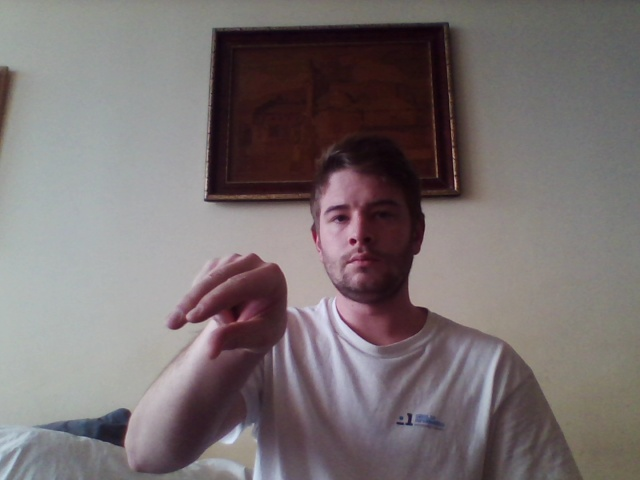ne: (165, 251, 293, 360)
